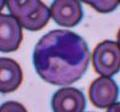N: (32, 29, 88, 85)
